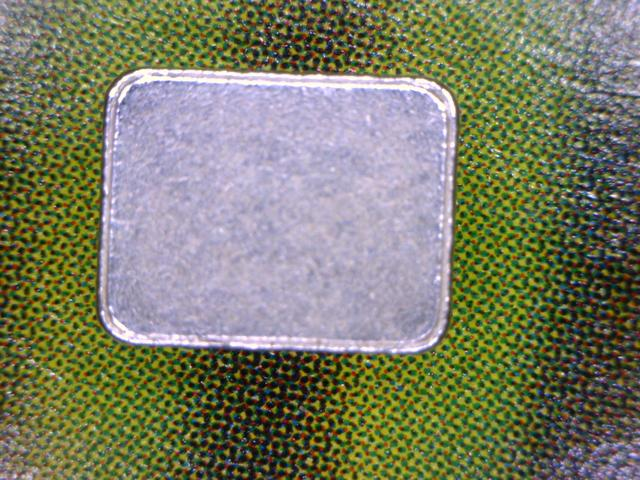nok: (98, 63, 460, 359)
